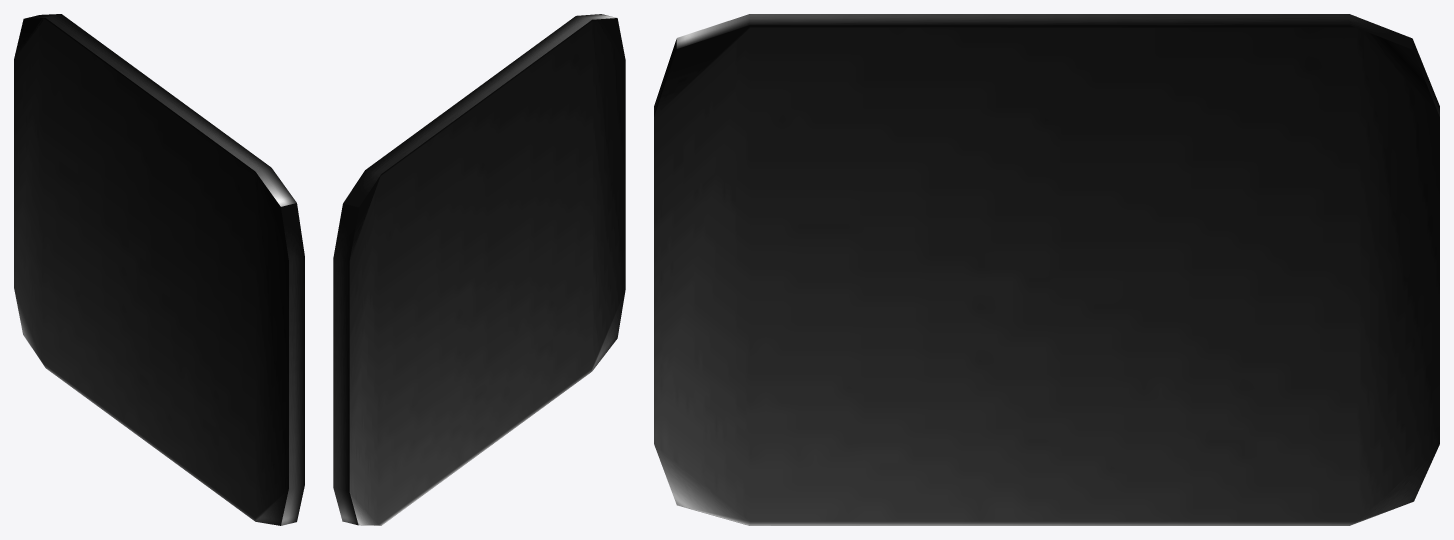
Rendered from 0024_GuoRanWeng_SkillB_1_Mesh_02.glb.
3 renders of one model, left to right at view 1: azimuth 30°, elevation 25°; view 2: azimuth 150°, elevation 25°; view 3: azimuth 270°, elevation 25°, orthographic. The views are drawn at different scales.
Size of the model in its own units: 0.0744 by 1.55 by 2.2.
Materials: 1 (1 with a texture image).
